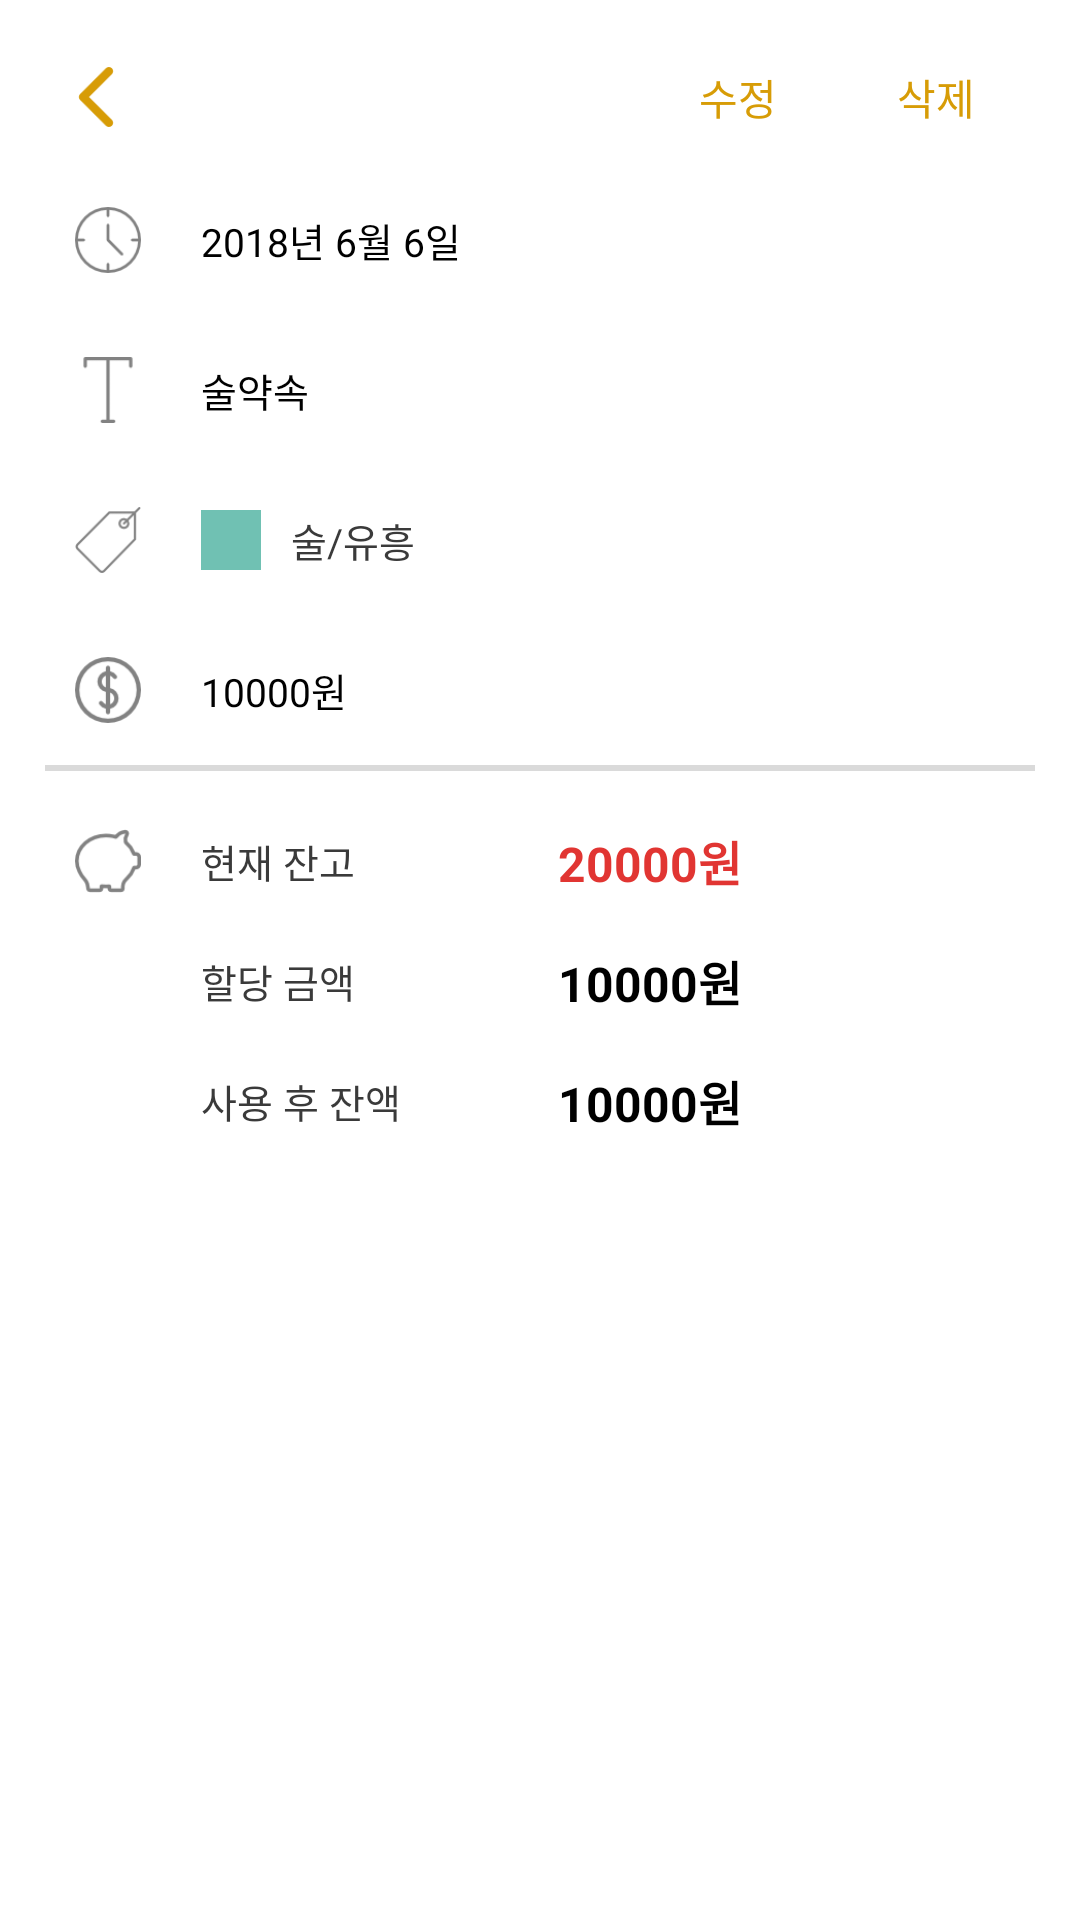

Where icons sit on this 1080×1920 app screen, as (x1=x1, y1=y1, x2=x2, y2=y2):
arrow: (x1=78, y1=67, x2=114, y2=127)
balance: (x1=75, y1=830, x2=141, y2=892)
clock: (x1=75, y1=207, x2=141, y2=273)
coin: (x1=75, y1=657, x2=141, y2=723)
tag: (x1=75, y1=507, x2=141, y2=573)
text: (x1=83, y1=357, x2=133, y2=423)
